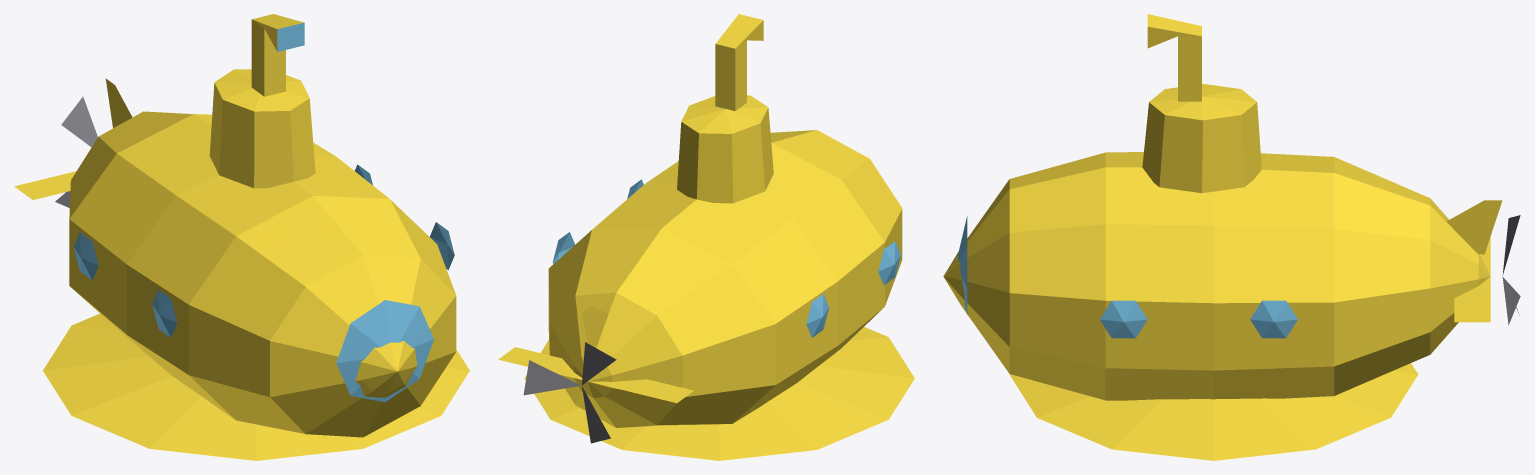
The model's file is submarine_hat.glb.
3 renders of one model, left to right at view 1: azimuth 30°, elevation 25°; view 2: azimuth 150°, elevation 25°; view 3: azimuth 270°, elevation 25°, orthographic. The views are drawn at different scales.
Visible parts, largest first — view 1: Accessory_SubmarineHat; view 2: Accessory_SubmarineHat; view 3: Accessory_SubmarineHat.
Boxes of the visible parts, x1,y1,x2,y2 form: Accessory_SubmarineHat: (14, 14, 469, 460); Accessory_SubmarineHat: (498, 14, 914, 460); Accessory_SubmarineHat: (943, 14, 1520, 460).
Size of the model in its own units: 0.68 by 0.67 by 0.96.
